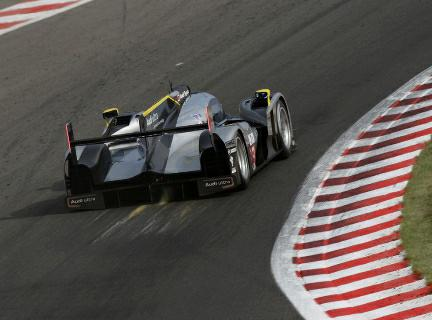奥迪-R18: (60, 82, 304, 215)
